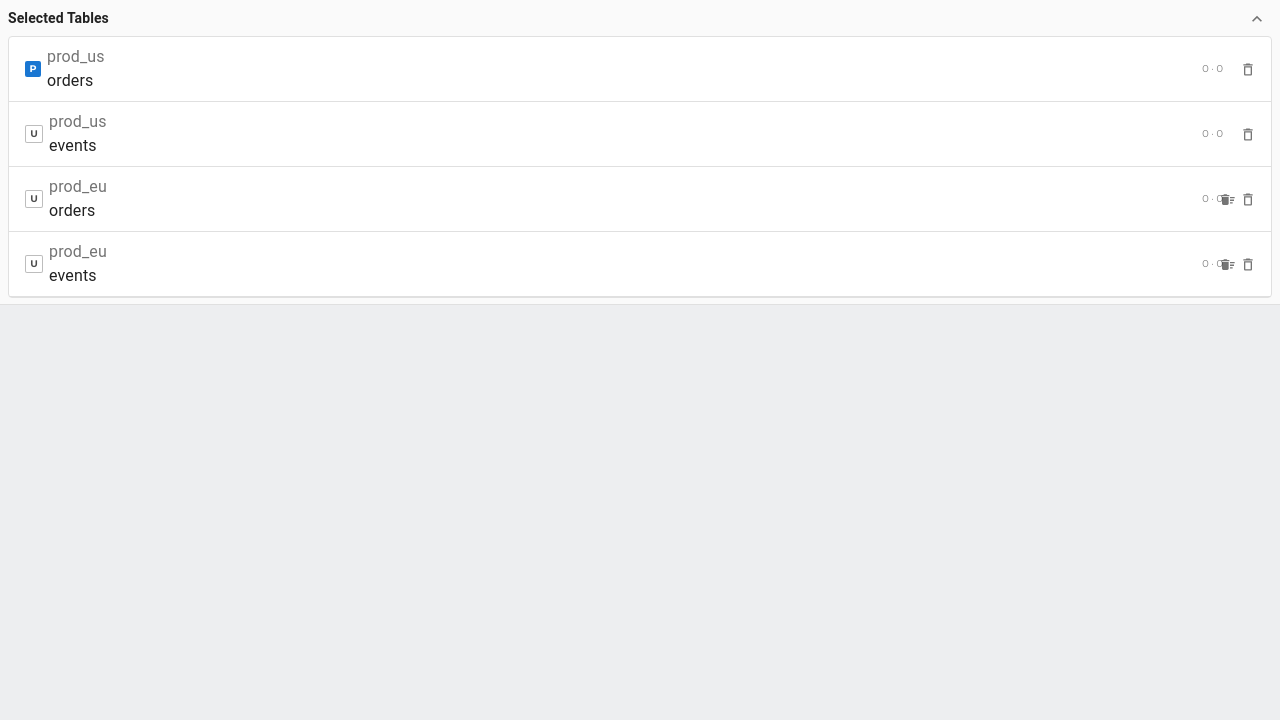
Scenario: SelectedTablesList — removing the primary table › asks first, and removes nothing until confirmed
The image size is (1280, 720).
Click the button named "Remove prod_us.orders": (1248, 70) [1238, 60, 1258, 80]
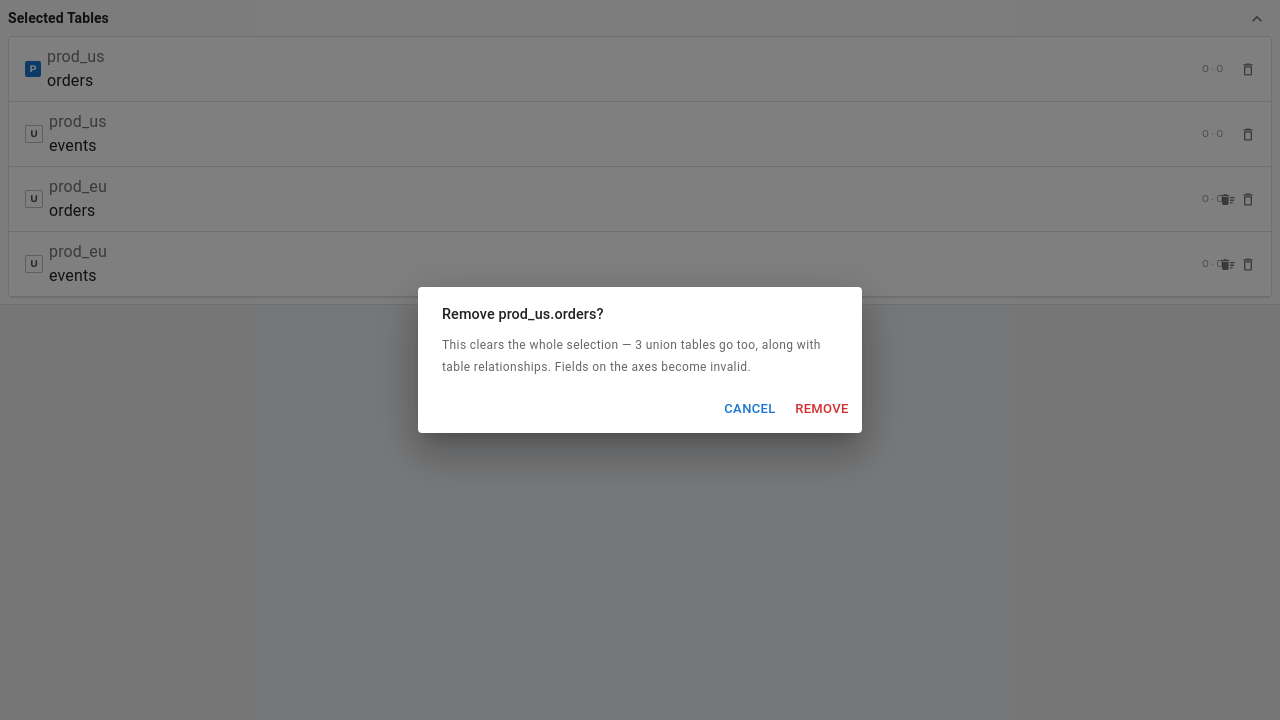
Expected: the dialog "Remove prod_us.orders?" is shown, [418, 287, 862, 433]
